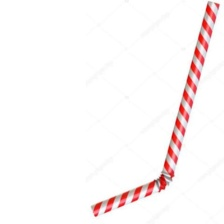drinking_straw: (86, 0, 223, 220)
